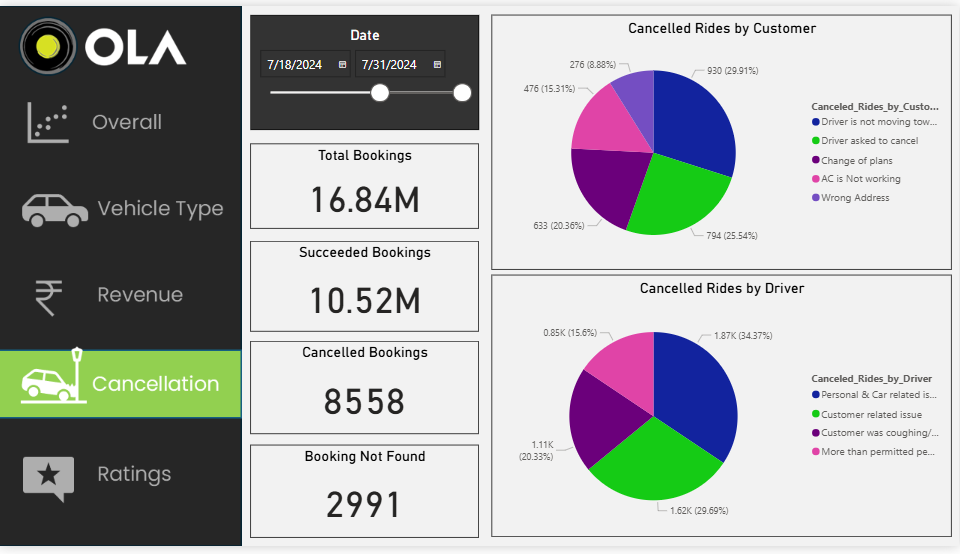

Layout of this report page (visuals, bound fields, positions):
{"tool":"powerbi","page":{"name":"Cancellation","canvas":[1280,720],"ordinal":3},"visuals":[{"type":"actionButton","box":[0,220.6,323.5,92.6],"z":0},{"type":"actionButton","box":[0,341.2,323.5,92.6],"z":1000},{"type":"actionButton","box":[0,583.8,323.5,92.6],"z":2000},{"type":"actionButton","box":[0,108.8,323.5,92.6],"z":3000},{"type":"pieChart","title":"Cancelled Rides by Customer","fields":{"Category":["July.Canceled_Rides_by_Customer"],"Y":["CountNonNull(July.Canceled_Rides_by_Customer)"]},"box":[657.2,12.4,613.7,340.3],"z":4000},{"type":"pieChart","title":"Cancelled Rides by Driver","fields":{"Category":["July.Canceled_Rides_by_Driver"],"Y":["CountNonNull(July.Canceled_Rides_by_Driver)"]},"box":[657.2,358.9,613.7,349.6],"z":5000},{"type":"slicer","title":"Date","fields":{"Values":["July.Date"]},"box":[335.6,12.4,304.5,153.8],"z":6000},{"type":"card","title":"Total Bookings","fields":{"Values":["Sum(July.Booking_Value)"]},"box":[335.6,183.3,304.5,113.4],"z":7000},{"type":"card","title":"Succeeded Bookings","fields":{"Values":["Sum(July.Booking_Value)"]},"box":[335.6,313.9,304.5,121.2],"z":8000},{"type":"card","title":"Cancelled Bookings","fields":{"Values":["CountNonNull(July.Booking_Status)"]},"box":[335.6,447.5,304.5,124.3],"z":9000},{"type":"card","title":"Booking Not Found","fields":{"Values":["CountNonNull(July.Booking_Status)"]},"box":[335.6,584.2,304.5,124.3],"z":10000}]}

Visuals, with their boxes in screenshot pixels (x1, y1, x2, y2), scaled from the page's 1280x720 canvas onto the 960x554 screenshot:
actionButton: bbox(0, 170, 243, 241)
actionButton: bbox(0, 263, 243, 334)
actionButton: bbox(0, 449, 243, 520)
actionButton: bbox(0, 84, 243, 155)
"Cancelled Rides by Customer" pieChart: bbox(493, 10, 953, 271)
"Cancelled Rides by Driver" pieChart: bbox(493, 276, 953, 545)
"Date" slicer: bbox(252, 10, 480, 128)
"Total Bookings" card: bbox(252, 141, 480, 228)
"Succeeded Bookings" card: bbox(252, 242, 480, 335)
"Cancelled Bookings" card: bbox(252, 344, 480, 440)
"Booking Not Found" card: bbox(252, 450, 480, 545)
